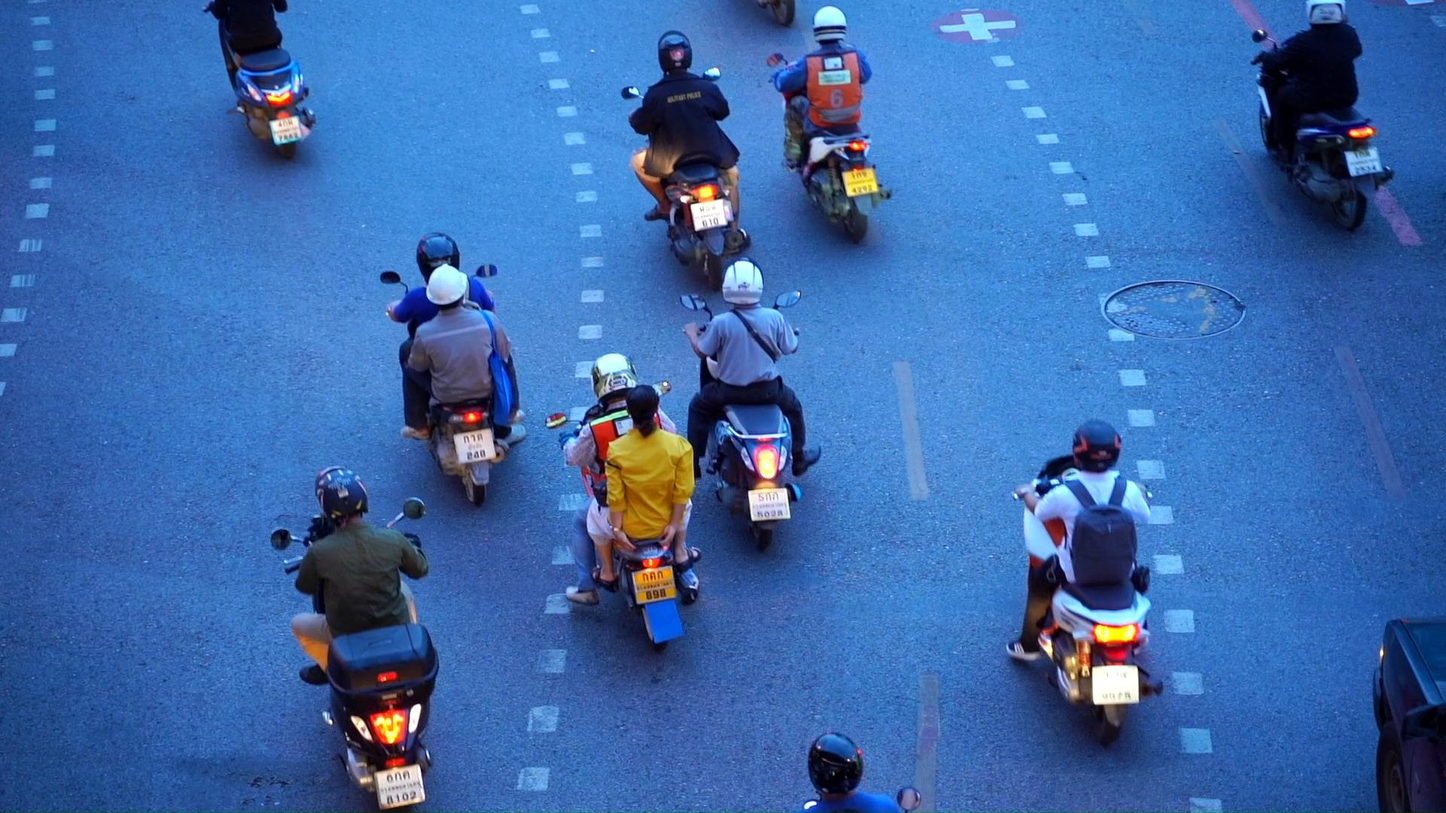driver: (273, 464, 439, 813), (1004, 421, 1165, 747), (546, 353, 702, 651), (679, 255, 821, 552), (380, 232, 525, 504), (621, 30, 751, 291), (1251, 0, 1395, 229), (765, 5, 892, 243), (202, 0, 315, 160), (793, 731, 921, 813)
helmet: (808, 730, 863, 796), (315, 465, 369, 529), (1072, 420, 1122, 474), (590, 353, 638, 405), (416, 232, 460, 286), (721, 255, 764, 306), (426, 264, 468, 311), (658, 30, 692, 78), (812, 5, 847, 43), (1306, 0, 1346, 26)
no-helmet: (625, 384, 660, 438)
